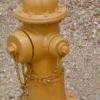Hydrant: (7, 4, 76, 97)
